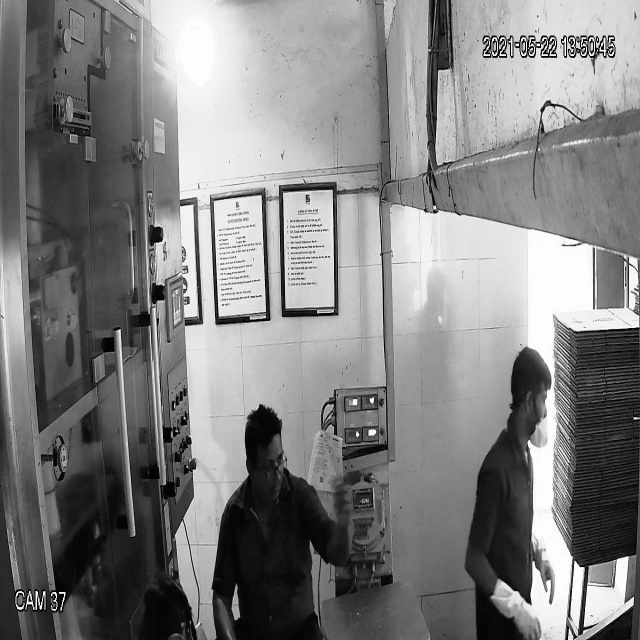Gafas: (244, 453, 292, 482)
